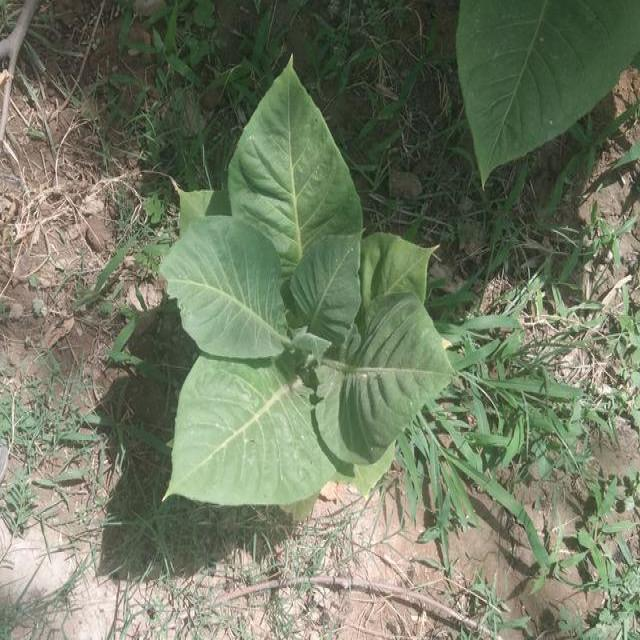crop: (154, 43, 460, 514)
